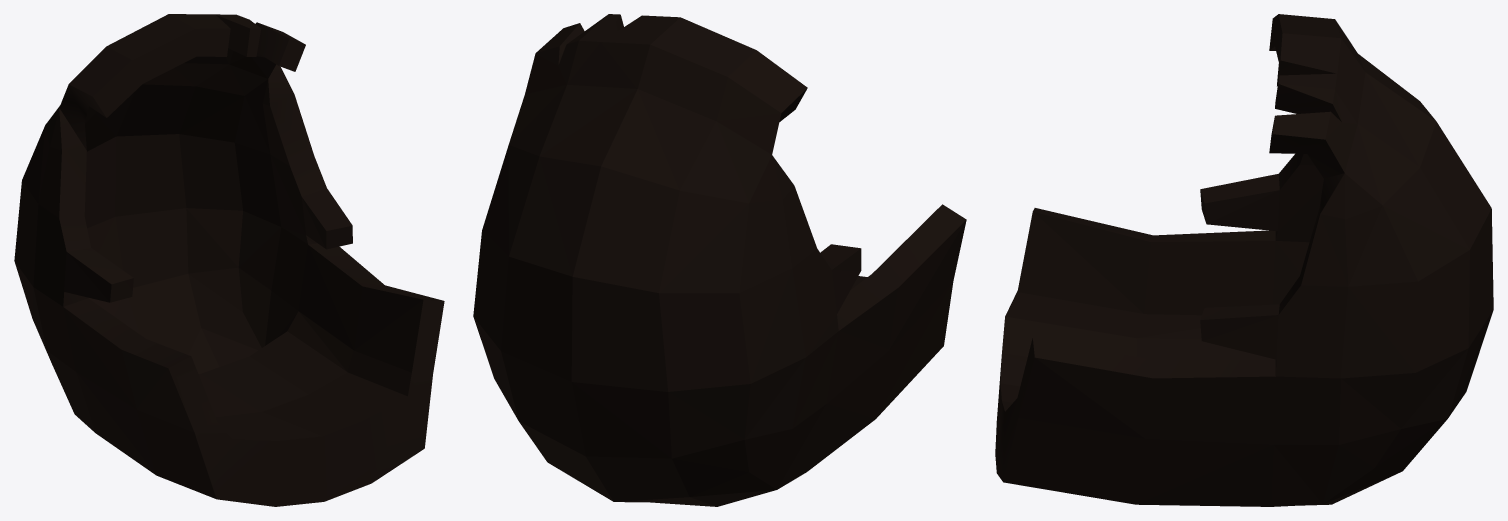
File: Hair Female 05.FBX
The picture shows the model from 3 angles, left to right: view 1: azimuth 30°, elevation 25°; view 2: azimuth 150°, elevation 25°; view 3: azimuth 270°, elevation 25°; orthographic projection. The views are drawn at different scales.
Visible parts, largest first — view 1: Hair Female 05; view 2: Hair Female 05; view 3: Hair Female 05.
Part boxes in pixels (bbox=[...]): Hair Female 05: bbox=[14, 14, 444, 506]; Hair Female 05: bbox=[473, 14, 966, 506]; Hair Female 05: bbox=[995, 14, 1493, 506].
Size of the model in its own units: 27.55 by 38.65 by 38.73.
